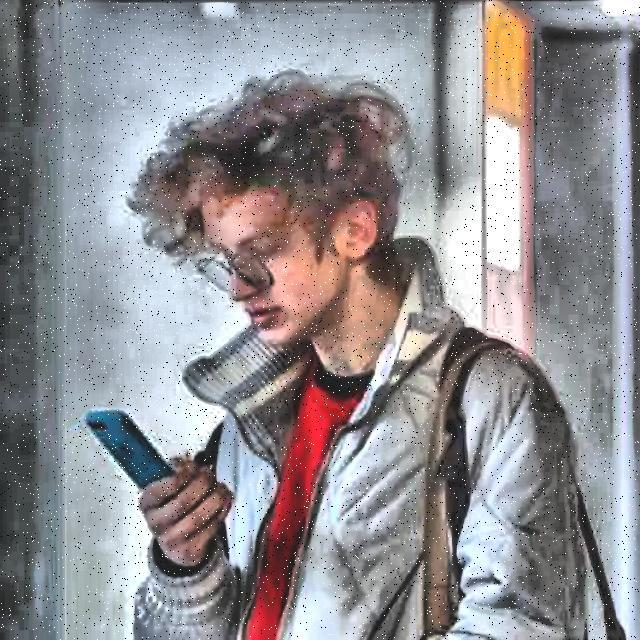Phone: (72, 406, 189, 496)
